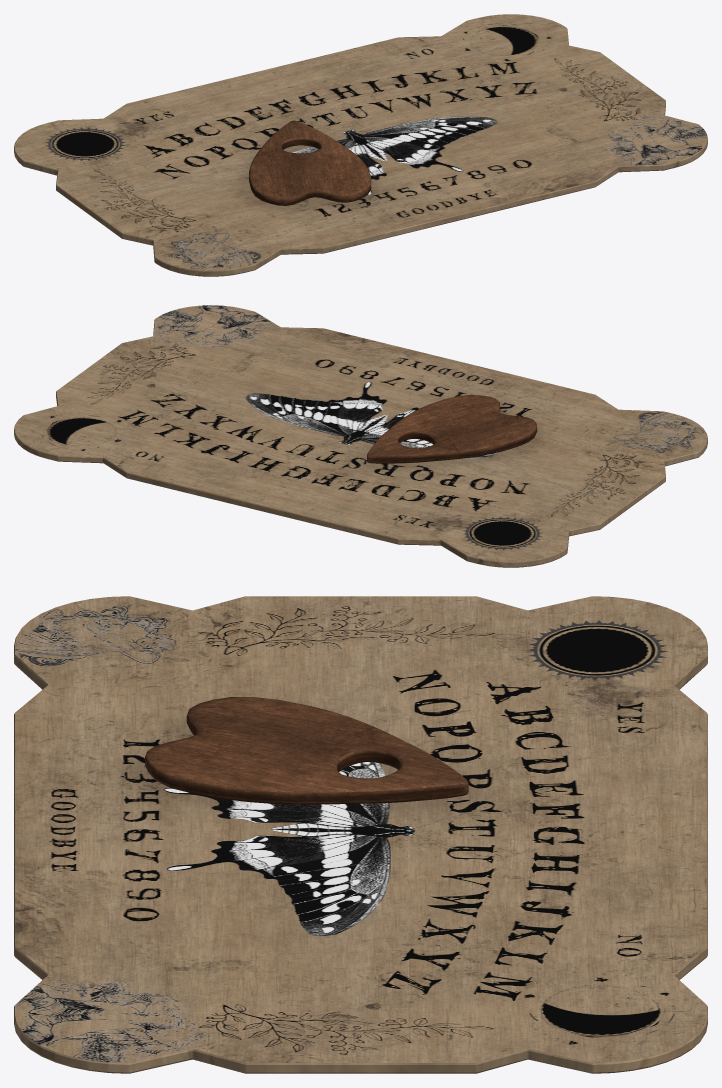
The model's file is ouija.glb.
3 renders of one model, top to bottom at view 1: azimuth 30°, elevation 25°; view 2: azimuth 150°, elevation 25°; view 3: azimuth 270°, elevation 25°, orthographic. The views are drawn at different scales.
Parts seen in each view (by area): view 1: Cube.001; view 2: Cube.001; view 3: Cube.001.
Part boxes in pixels (bbox=[...]): Cube.001: bbox=[14, 14, 707, 276]; Cube.001: bbox=[14, 305, 707, 567]; Cube.001: bbox=[14, 596, 707, 1073].
Size of the model in its own units: 169 by 4.65 by 106.
Materials: 1 (1 with a texture image).
